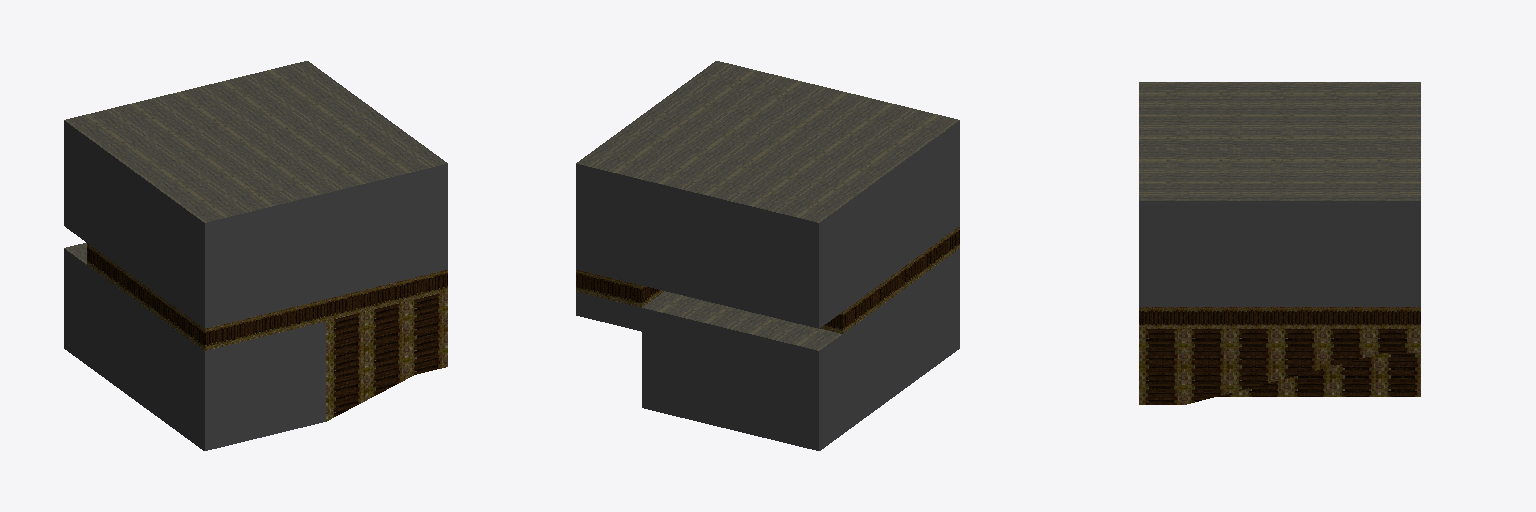
The picture shows the model from 3 angles: view 1: azimuth 30°, elevation 25°; view 2: azimuth 150°, elevation 25°; view 3: azimuth 270°, elevation 25°; orthographic projection.
Parts seen in each view (by area): view 1: bar; view 2: bar; view 3: bar.
Part boxes in pixels (left/top/right/bottom): bar: left=64, top=61, right=447, bottom=450; bar: left=576, top=61, right=959, bottom=450; bar: left=1139, top=82, right=1420, bottom=404.
Bounding box in the file's own units: 16 × 14.33 × 16.
Materials: 4 (3 with a texture image).